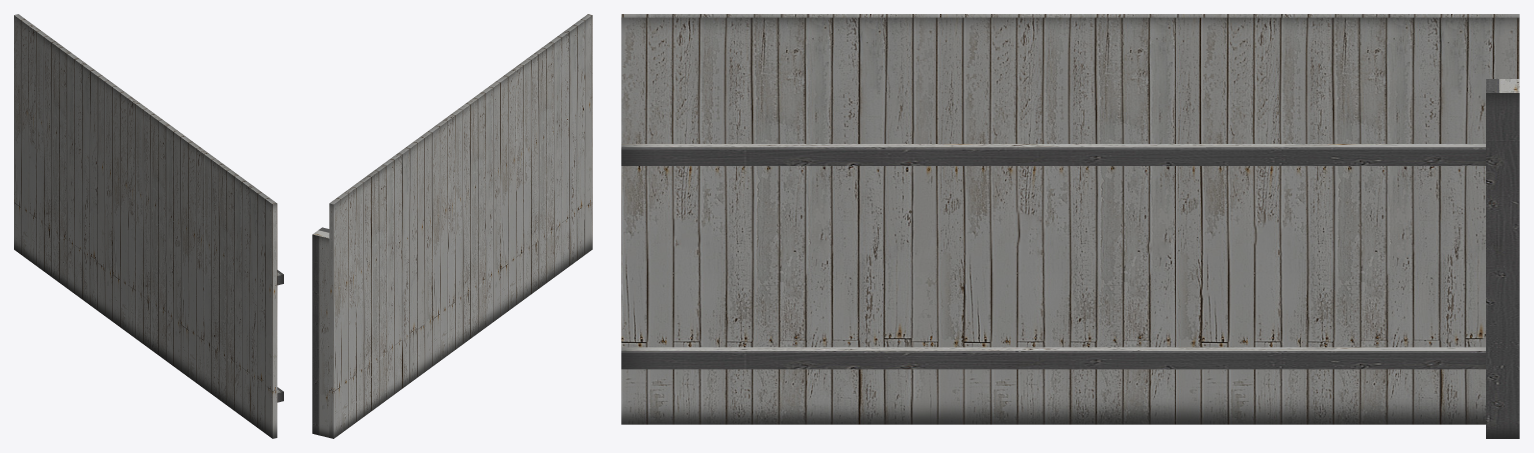
File: sibir_zabor_derevo3.FBX
3 renders of one model, left to right at view 1: azimuth 30°, elevation 25°; view 2: azimuth 150°, elevation 25°; view 3: azimuth 270°, elevation 25°, orthographic. The views are drawn at different scales.
Visible parts, largest first — view 1: sibir_zabor_derevo3; view 2: sibir_zabor_derevo3; view 3: sibir_zabor_derevo3.
Part boxes in pixels (<box>): sibir_zabor_derevo3: <box>14,14,283,438</box>; sibir_zabor_derevo3: <box>312,14,592,438</box>; sibir_zabor_derevo3: <box>621,14,1519,438</box>.
Size of the model in its own units: 19.02 by 400 by 200.
